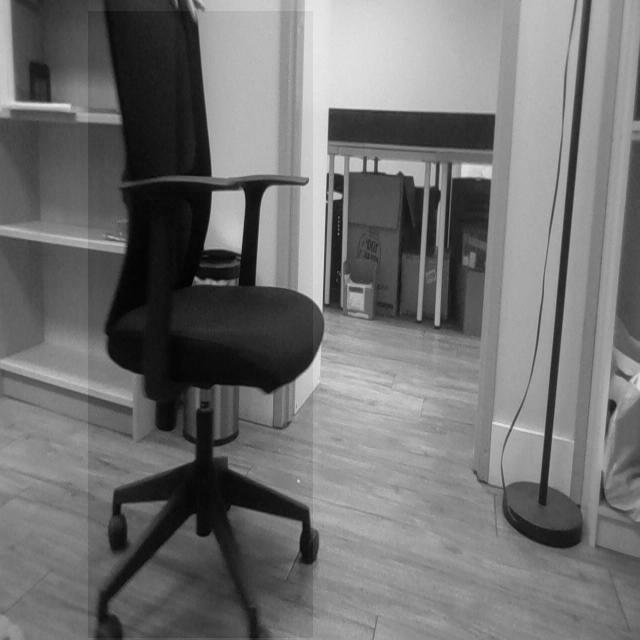chair: (88, 0, 319, 639)
